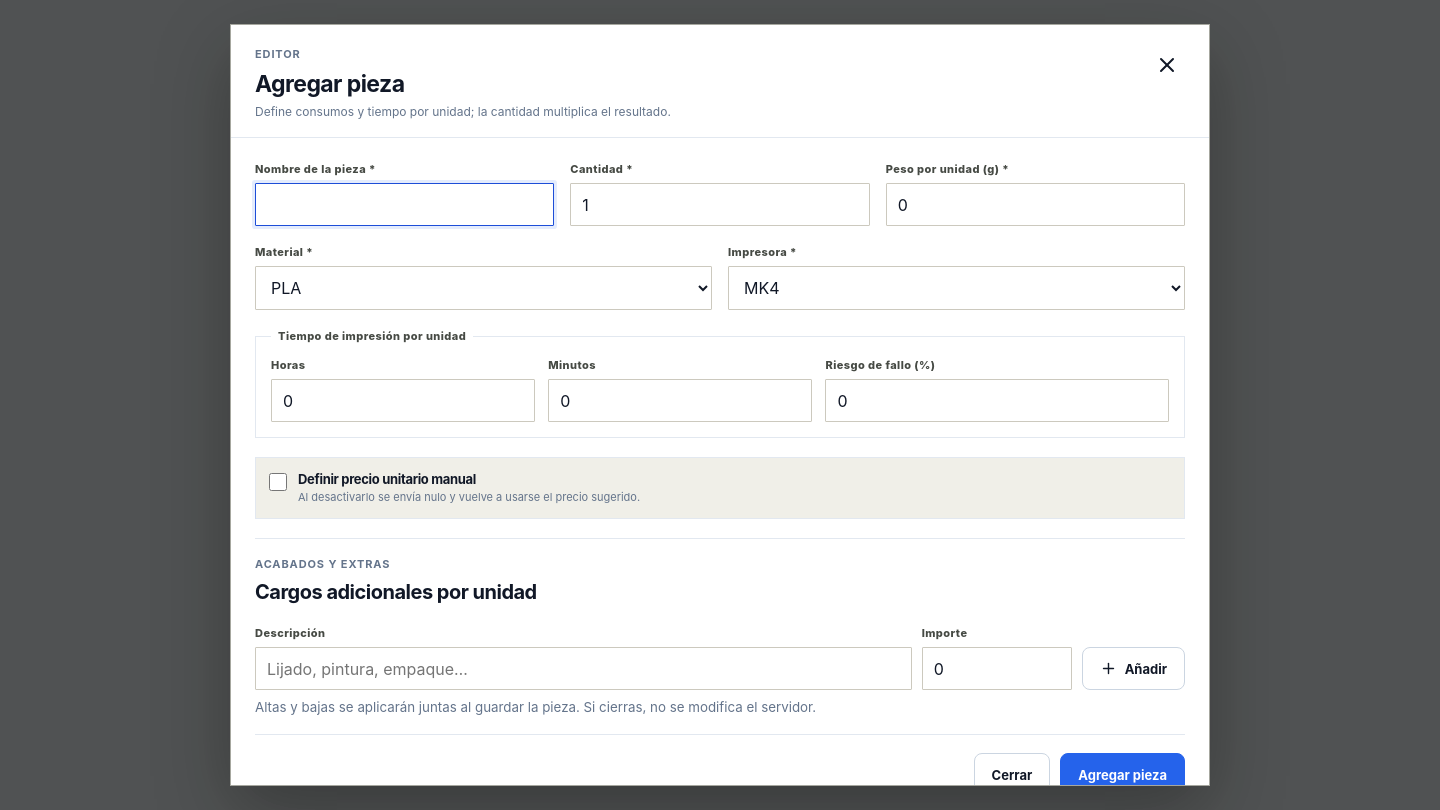
it: editor atómico de piezas › no guarda un importe pendiente sin descripción
Type "Carcasa" into the field labelled "Nombre de la pieza *" at (405, 204), box 255,183 -> 554,226
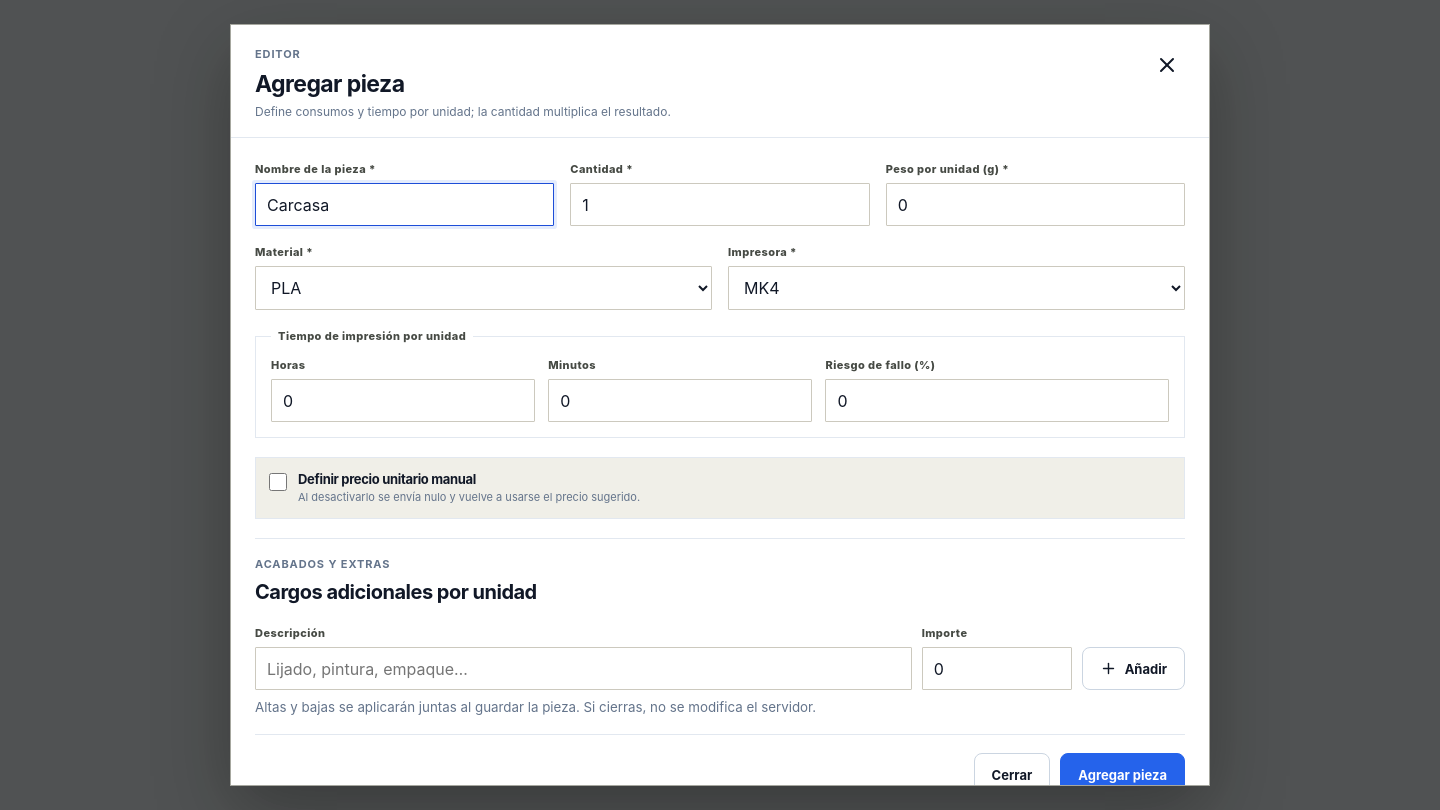
Replace the text in the number field labelled "Importe" with "10" at (997, 669), box 922,647 -> 1072,690
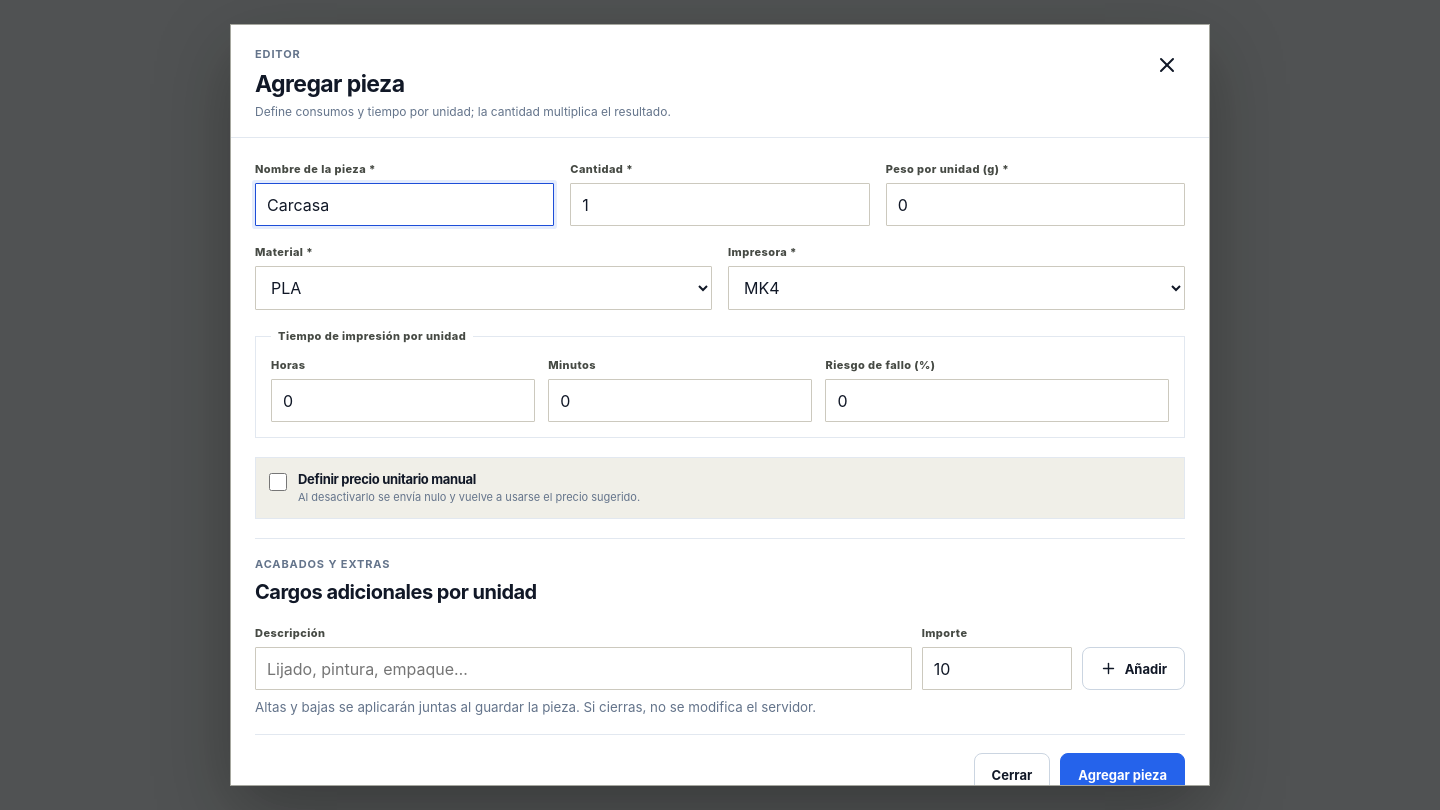
Click the button "Agregar pieza" at (1123, 775), box 1060,753 -> 1185,796
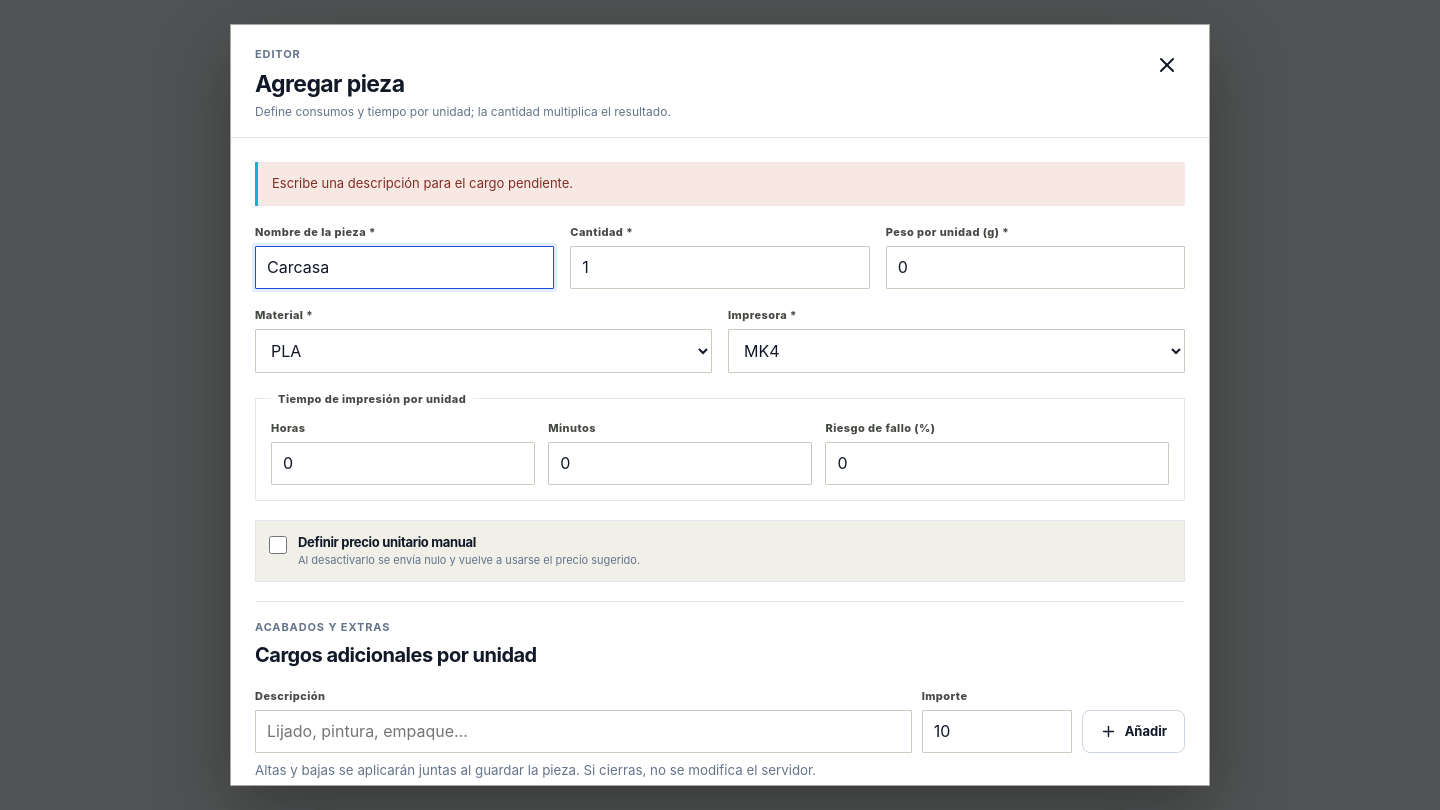
Expected: the message reads "Escribe una descripción para el cargo pendiente.", 272,175 -> 573,191
